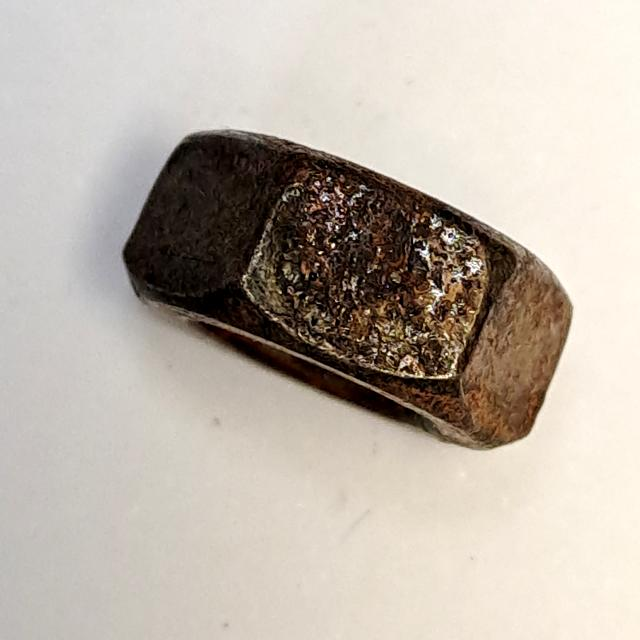Side_Rust: (94, 111, 591, 474)
